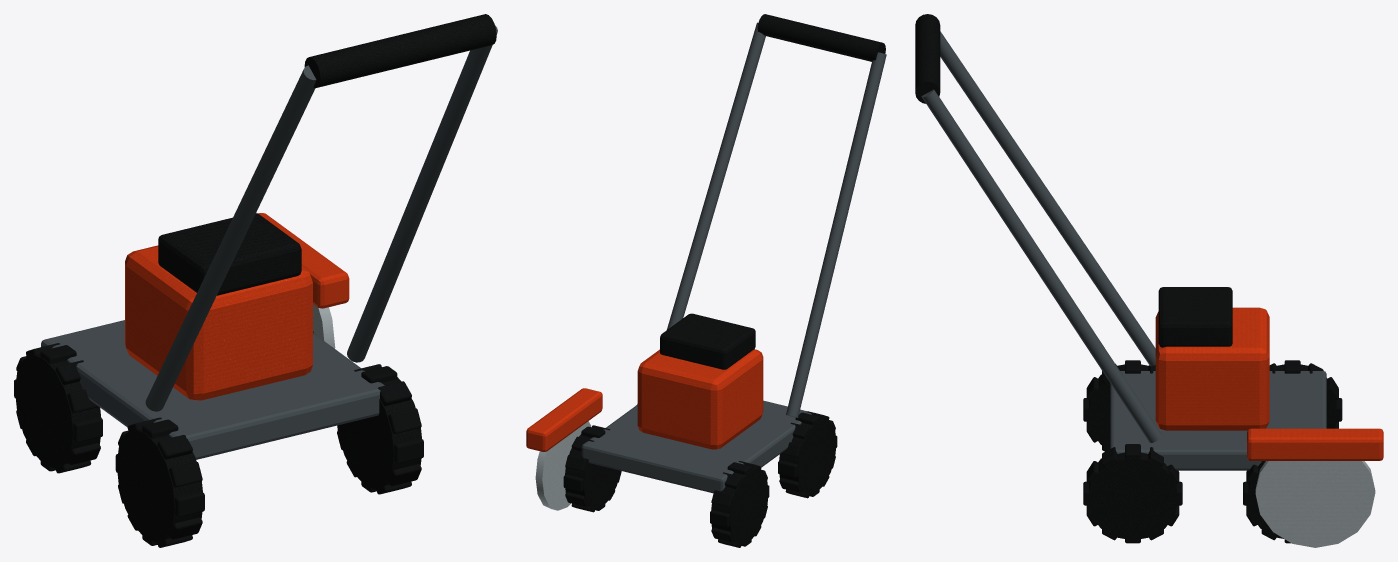
Rendered from WalkBehindEdger.gltf.
3 renders of one model, left to right at view 1: azimuth 30°, elevation 25°; view 2: azimuth 150°, elevation 25°; view 3: azimuth 270°, elevation 25°, orthographic. The views are drawn at different scales.
Visible parts, largest first — view 1: WalkBehindEdger__Body, WalkBehindEdger__Wheel_R-1, WalkBehindEdger__Wheel_F-1, WalkBehindEdger__Wheel_R1, WalkBehindEdger__Wheel_Blade; view 2: WalkBehindEdger__Body, WalkBehindEdger__Wheel_F-1, WalkBehindEdger__Wheel_R-1, WalkBehindEdger__Wheel_F1, WalkBehindEdger__Wheel_Blade; view 3: WalkBehindEdger__Body, WalkBehindEdger__Wheel_Blade, WalkBehindEdger__Wheel_R1, WalkBehindEdger__Wheel_R-1, WalkBehindEdger__Wheel_F-1, WalkBehindEdger__Wheel_F1.
Part boxes in pixels (left/top/right/bottom): WalkBehindEdger__Body: left=41, top=14, right=497, bottom=459; WalkBehindEdger__Wheel_R-1: left=115, top=417, right=204, bottom=547; WalkBehindEdger__Wheel_F-1: left=14, top=343, right=102, bottom=473; WalkBehindEdger__Wheel_R1: left=337, top=364, right=423, bottom=494; WalkBehindEdger__Wheel_Blade: left=313, top=304, right=335, bottom=348; WalkBehindEdger__Body: left=526, top=14, right=886, bottom=493; WalkBehindEdger__Wheel_F-1: left=710, top=461, right=769, bottom=547; WalkBehindEdger__Wheel_R-1: left=778, top=411, right=837, bottom=498; WalkBehindEdger__Wheel_F1: left=563, top=425, right=621, bottom=512; WalkBehindEdger__Wheel_Blade: left=535, top=421, right=591, bottom=510; WalkBehindEdger__Body: left=915, top=14, right=1383, bottom=470; WalkBehindEdger__Wheel_Blade: left=1255, top=461, right=1375, bottom=547; WalkBehindEdger__Wheel_R1: left=1083, top=444, right=1182, bottom=543; WalkBehindEdger__Wheel_R-1: left=1083, top=360, right=1155, bottom=451; WalkBehindEdger__Wheel_F-1: left=1269, top=360, right=1342, bottom=428; WalkBehindEdger__Wheel_F1: left=1243, top=461, right=1290, bottom=543.
Bounding box in the file's own units: 0.6188 × 1.22 × 1.15.
Materials: 2 (1 with a texture image).
